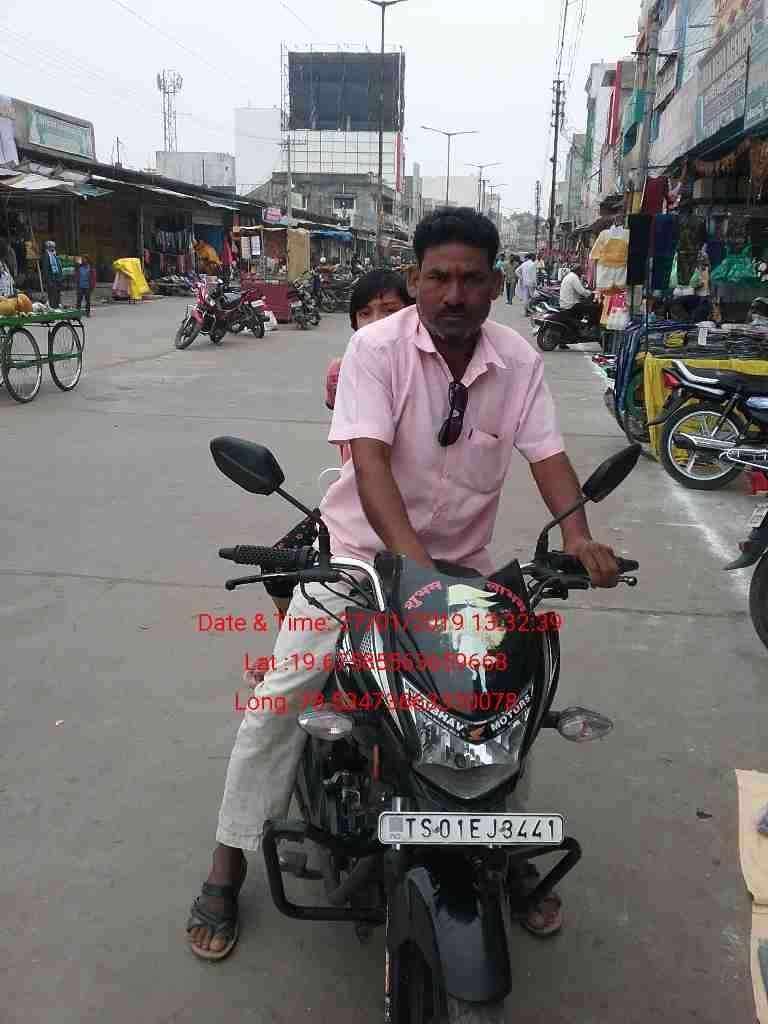plate: (377, 807, 569, 847)
